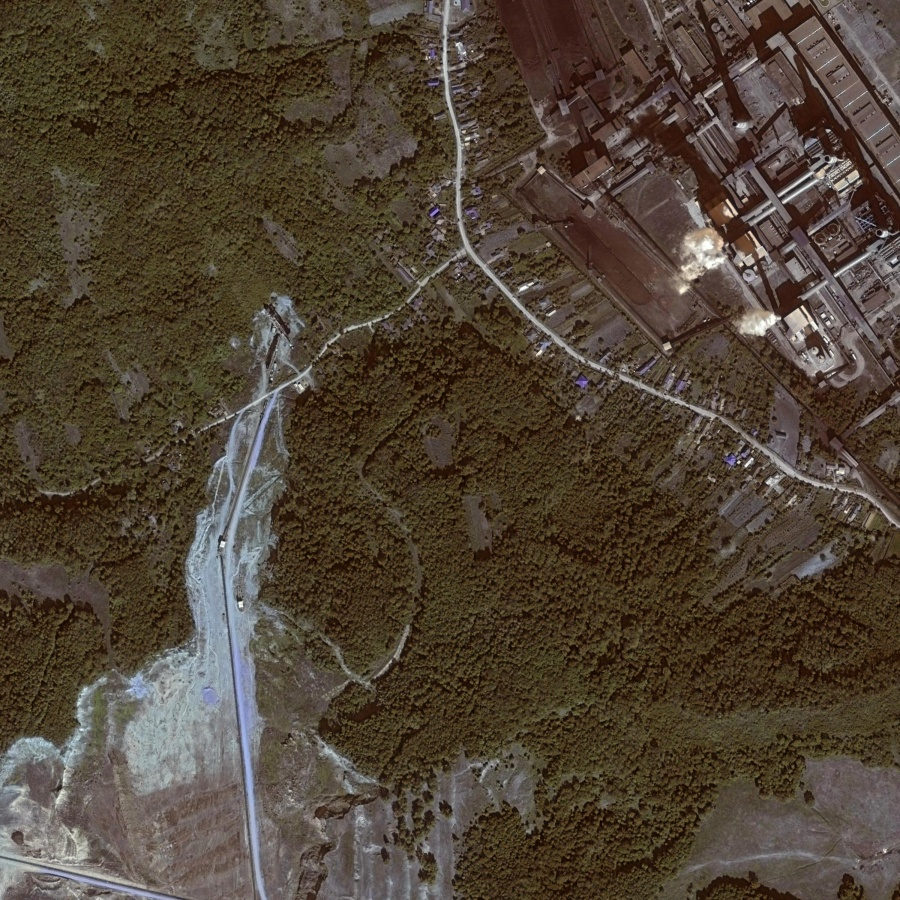PowerPlant: (564, 136, 779, 365)
